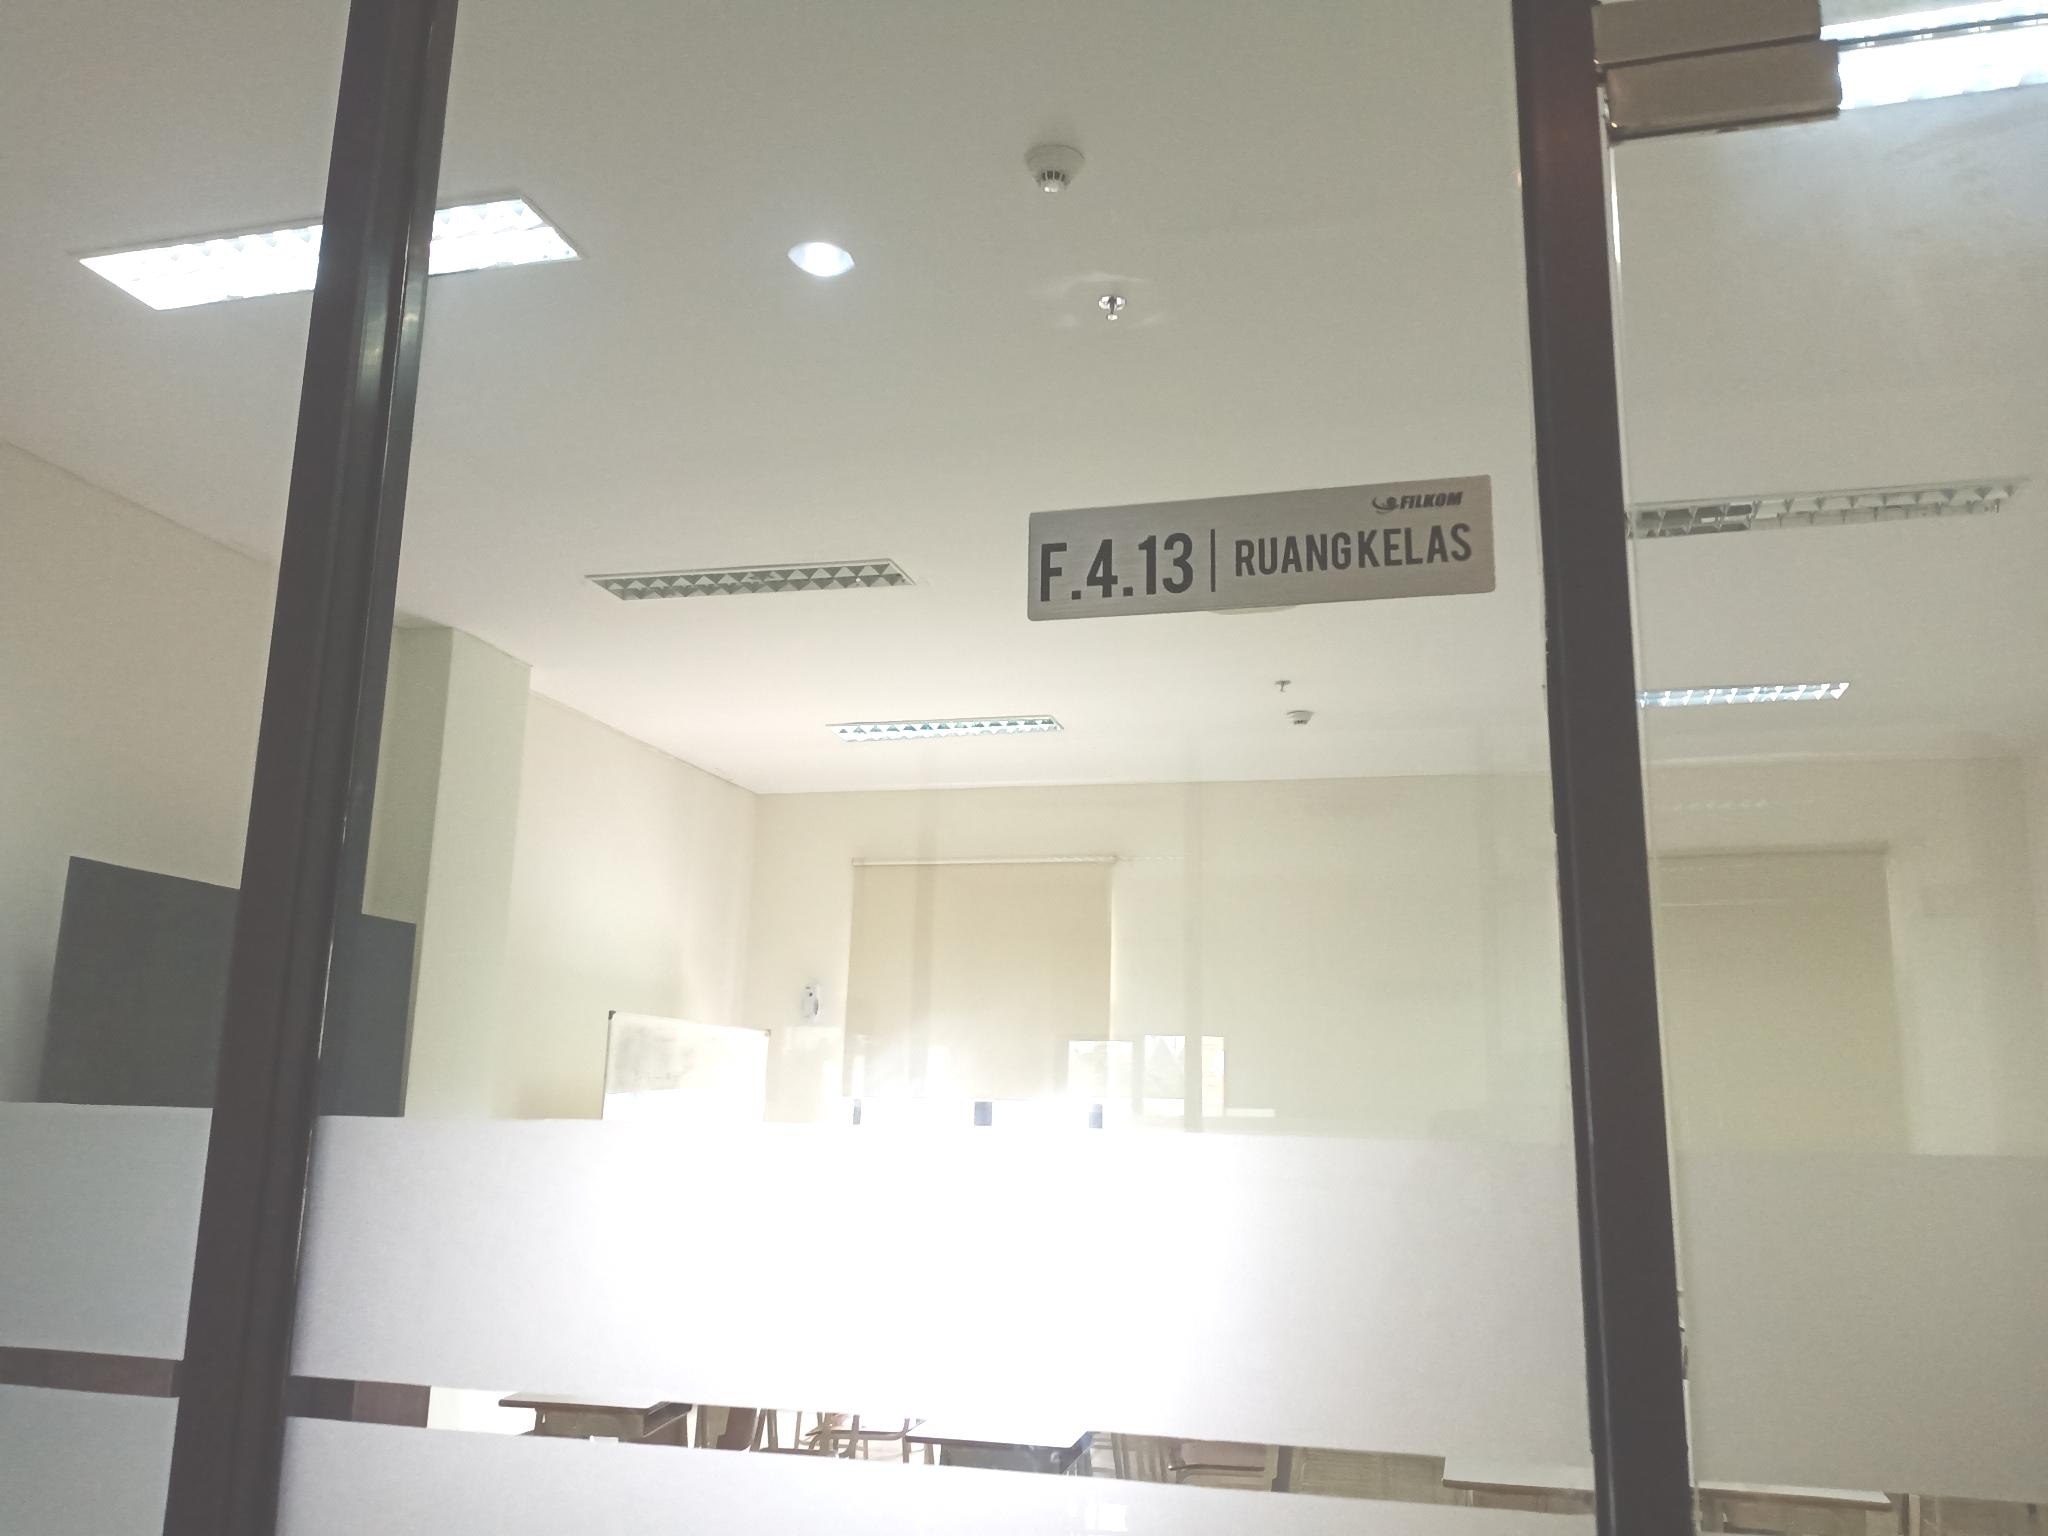plate: (1027, 474, 1500, 620)
